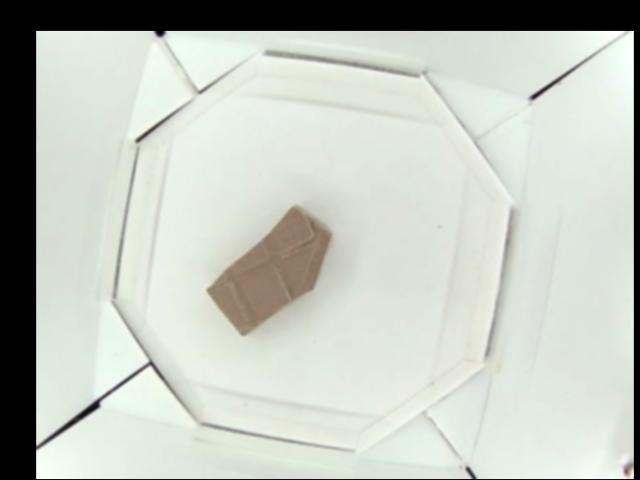China: (205, 207, 331, 338)
